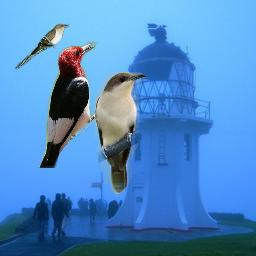Cuckoo: (95, 72, 147, 195), (14, 23, 71, 71)
Woodpecker: (37, 41, 99, 168)
